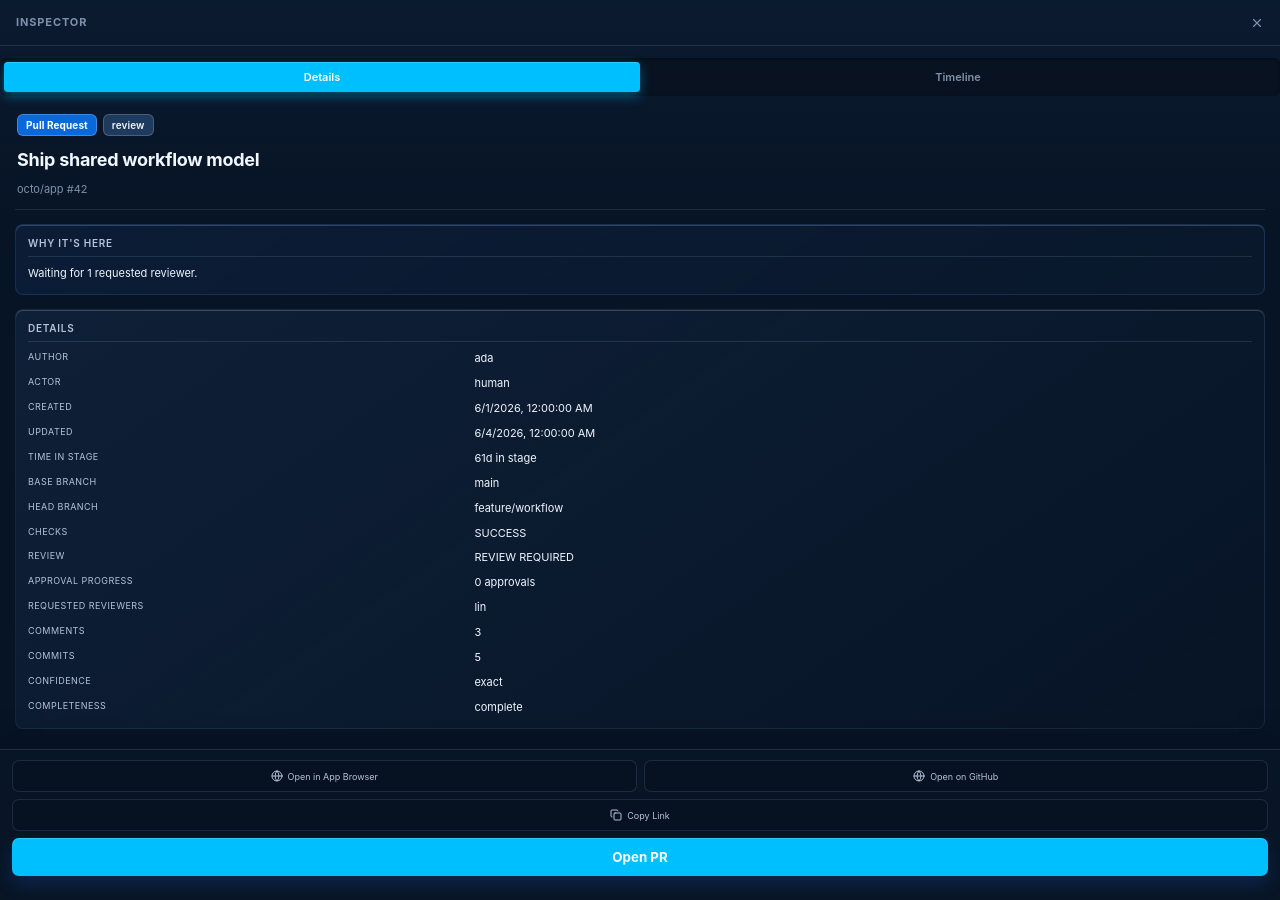
Test: workflow Inspector › explains classification and renders metadata plus stage history
Click the tab "Timeline".
click(958, 77)  # box x1=640 y1=62 x2=1276 y2=92
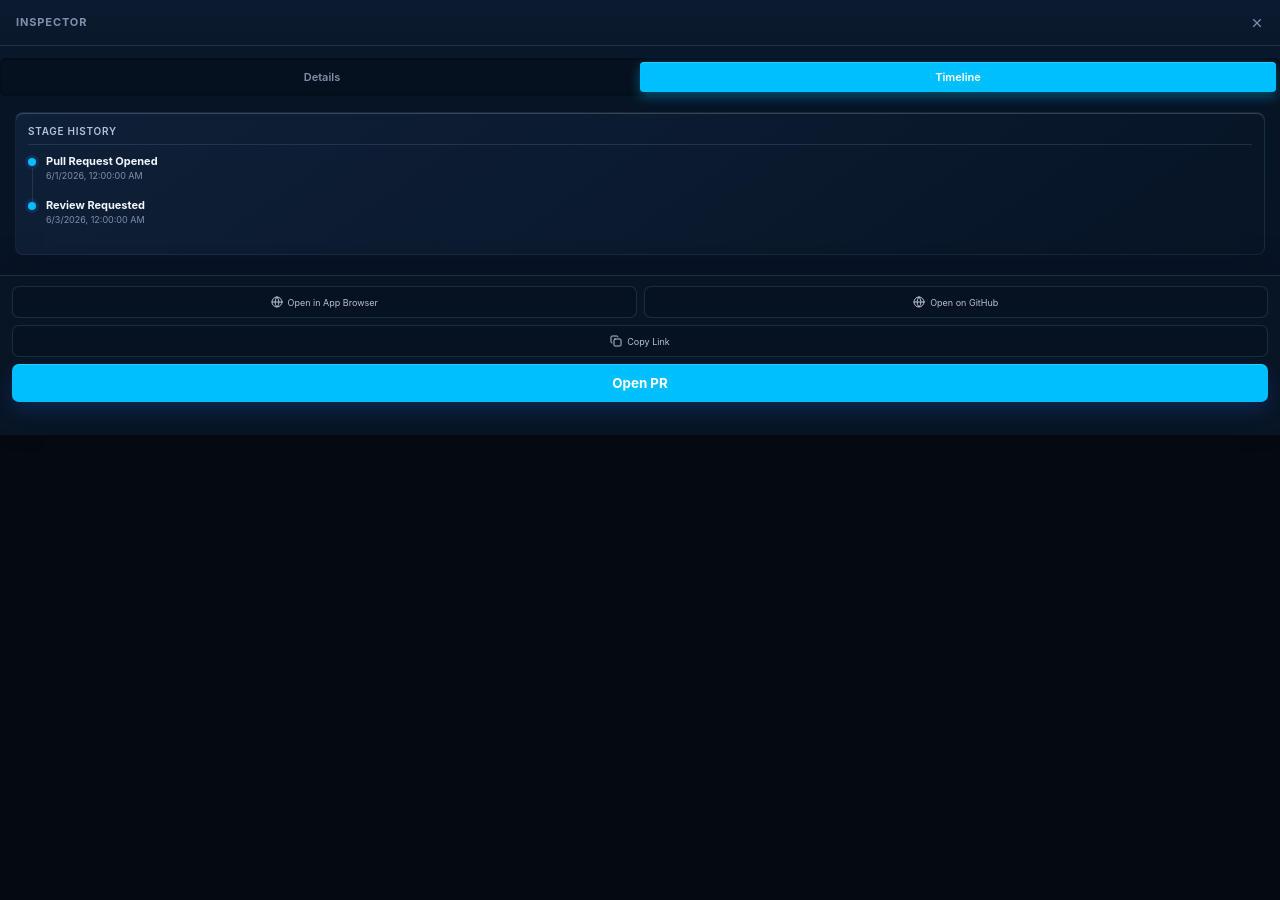
Now the text "Review requested" is shown, box x1=46 y1=198 x2=145 y2=212
